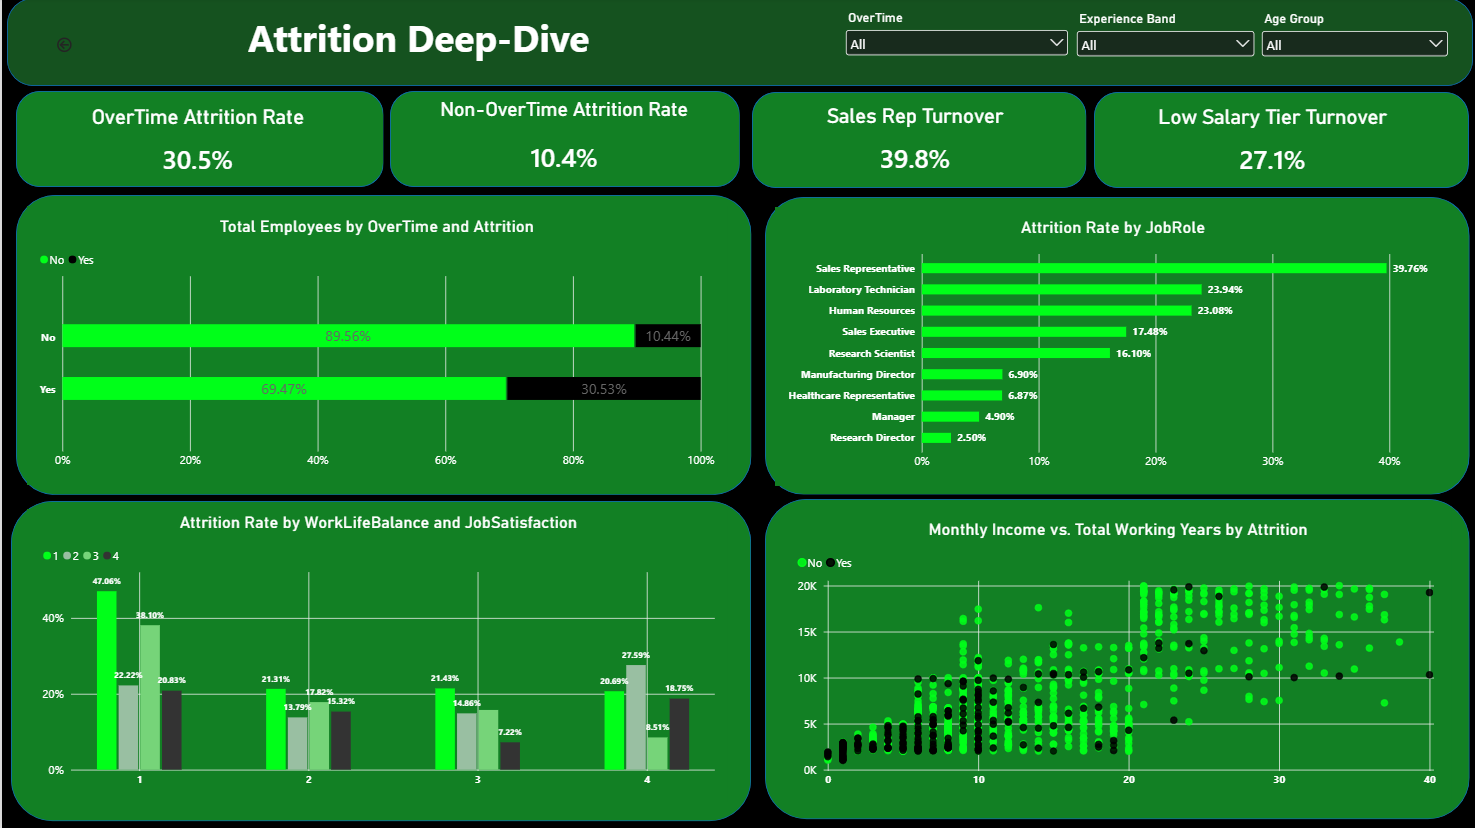

The dashboard page shown, as its layout file describes it:
{"tool":"powerbi","page":{"name":"Attrition Deep-Dive","canvas":[1920,1080],"ordinal":1},"visuals":[{"type":"shape","box":[6.9,0,1907.6,114.6],"z":0},{"type":"shape","box":[18.5,120.4,478.5,125],"z":1000},{"type":"shape","box":[504.7,120.4,455.3,125],"z":2000},{"type":"shape","box":[1421.5,121.9,487.7,125],"z":3000},{"type":"shape","box":[975.4,121.9,435.2,125],"z":5000},{"type":"cardVisual","title":"OverTime Attrition Rate","fields":{"Data":["WA_Fn-UseC_-HR-Employee-Attriti.OverTime Attrition Rate"]},"box":[35.5,138.9,439.9,91.1],"z":6000},{"type":"cardVisual","title":"Non-OverTime Attrition Rate","fields":{"Data":["WA_Fn-UseC_-HR-Employee-Attriti.Non-OverTime Attrition Rate"]},"box":[518.6,129.6,424.4,106.5],"z":7000},{"type":"cardVisual","title":"Sales Rep Turnover","fields":{"Data":["WA_Fn-UseC_-HR-Employee-Attriti.Sales Rep Turnover"]},"box":[992.4,137.4,390.5,91.1],"z":8000},{"type":"cardVisual","title":"Low Salary Tier Turnover","fields":{"Data":["WA_Fn-UseC_-HR-Employee-Attriti.Low Salary Tier Turnover"]},"box":[1421.5,138.9,464.6,91.1],"z":9000},{"type":"textbox","box":[320.5,18,478.5,80.3],"z":11000},{"type":"shape","box":[18.5,256.2,956.9,390.5],"z":12000},{"type":"shape","box":[992.4,259.3,916.8,387.4],"z":13000},{"type":"hundredPercentStackedBarChart","fields":{"Category":["WA_Fn-UseC_-HR-Employee-Attriti.OverTime"],"Y":["WA_Fn-UseC_-HR-Employee-Attriti.Total Employees"],"Series":["WA_Fn-UseC_-HR-Employee-Attriti.Attrition"]},"box":[32.4,270.1,910.6,362.7],"z":14000},{"type":"clusteredBarChart","fields":{"Category":["WA_Fn-UseC_-HR-Employee-Attriti.JobRole"],"Y":["WA_Fn-UseC_-HR-Employee-Attriti.Attrition Rate"]},"box":[1006.3,271.6,879.7,362.7],"z":15000},{"type":"shape","box":[12.3,654.4,963.1,416.7],"z":16000},{"type":"shape","box":[992.4,651.3,916.8,416.7],"z":17000},{"type":"scatterChart","title":"Monthly Income vs. Total Working Years by Attrition","fields":{"X":["Sum(WA_Fn-UseC_-HR-Employee-Attriti.TotalWorkingYears)"],"Y":["Sum(WA_Fn-UseC_-HR-Employee-Attriti.MonthlyIncome)"],"Series":["WA_Fn-UseC_-HR-Employee-Attriti.Attrition"],"Category":["WA_Fn-UseC_-HR-Employee-Attriti.EmployeeNumber"]},"box":[1018.6,665.2,867.4,381.2],"z":18000},{"type":"clusteredColumnChart","fields":{"Category":["WA_Fn-UseC_-HR-Employee-Attriti.WorkLifeBalance"],"Y":["WA_Fn-UseC_-HR-Employee-Attriti.Attrition Rate"],"Series":["WA_Fn-UseC_-HR-Employee-Attriti.JobSatisfaction"]},"box":[32.4,665.2,910.6,381.2],"z":19000},{"type":"slicer","fields":{"Values":["WA_Fn-UseC_-HR-Employee-Attriti.OverTime"]},"box":[1092.7,15.4,299.4,71],"z":20000},{"type":"slicer","fields":{"Values":["WA_Fn-UseC_-HR-Employee-Attriti.Experience Band"]},"box":[1393.7,17,240.8,71],"z":21000},{"type":"slicer","fields":{"Values":["WA_Fn-UseC_-HR-Employee-Attriti.Age Group"]},"box":[1634.5,17,251.6,71],"z":22000},{"type":"actionButton","box":[35.5,17,91.1,88],"z":22001}]}

Visuals, with their boxes in screenshot pixels (x1, y1, x2, y2), scaled from the page's 1920x1080 canvas onto the 1475x828 screenshot:
shape: 5,0,1471,88
shape: 14,92,382,188
shape: 388,92,738,188
shape: 1092,93,1467,189
shape: 749,93,1084,189
"OverTime Attrition Rate" cardVisual: 27,106,365,176
"Non-OverTime Attrition Rate" cardVisual: 398,99,724,181
"Sales Rep Turnover" cardVisual: 762,105,1062,175
"Low Salary Tier Turnover" cardVisual: 1092,106,1449,176
textbox: 246,14,614,75
shape: 14,196,749,496
shape: 762,199,1467,496
hundredPercentStackedBarChart - WA_Fn-UseC_-HR-Employee-Attriti.OverTime x WA_Fn-UseC_-HR-Employee-Attriti.Total Employees: 25,207,724,485
clusteredBarChart - WA_Fn-UseC_-HR-Employee-Attriti.JobRole x WA_Fn-UseC_-HR-Employee-Attriti.Attrition Rate: 773,208,1449,486
shape: 9,502,749,821
shape: 762,499,1467,819
"Monthly Income vs. Total Working Years by Attrition" scatterChart: 783,510,1449,802
clusteredColumnChart - WA_Fn-UseC_-HR-Employee-Attriti.WorkLifeBalance x WA_Fn-UseC_-HR-Employee-Attriti.Attrition Rate: 25,510,724,802
slicer - WA_Fn-UseC_-HR-Employee-Attriti.OverTime: 839,12,1069,66
slicer - WA_Fn-UseC_-HR-Employee-Attriti.Experience Band: 1071,13,1256,67
slicer - WA_Fn-UseC_-HR-Employee-Attriti.Age Group: 1256,13,1449,67
actionButton: 27,13,97,80
